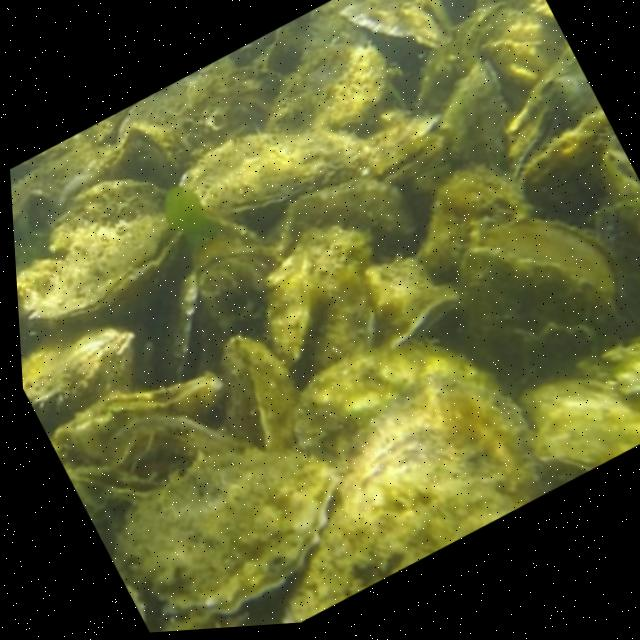Oyster-Closed: (113, 453, 340, 616), (36, 180, 184, 327), (183, 132, 364, 219), (58, 376, 223, 458), (190, 243, 296, 361), (438, 57, 515, 166), (375, 284, 461, 351), (515, 100, 563, 176), (374, 134, 443, 182), (78, 464, 162, 502), (599, 148, 640, 203)
Oyster-Indeterminate: (283, 343, 550, 624), (422, 167, 534, 282), (21, 321, 134, 434), (295, 224, 374, 376), (282, 177, 419, 261), (265, 41, 387, 132), (526, 112, 622, 215), (221, 336, 300, 452), (342, 0, 450, 47), (269, 252, 313, 358), (368, 254, 433, 298)
Oyster-Open: (461, 216, 619, 398)
